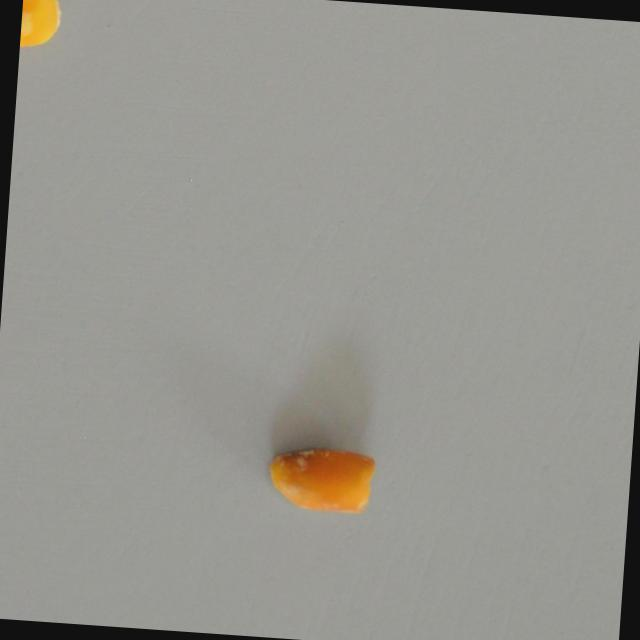dañado: (259, 437, 384, 520), (18, 0, 70, 58)
